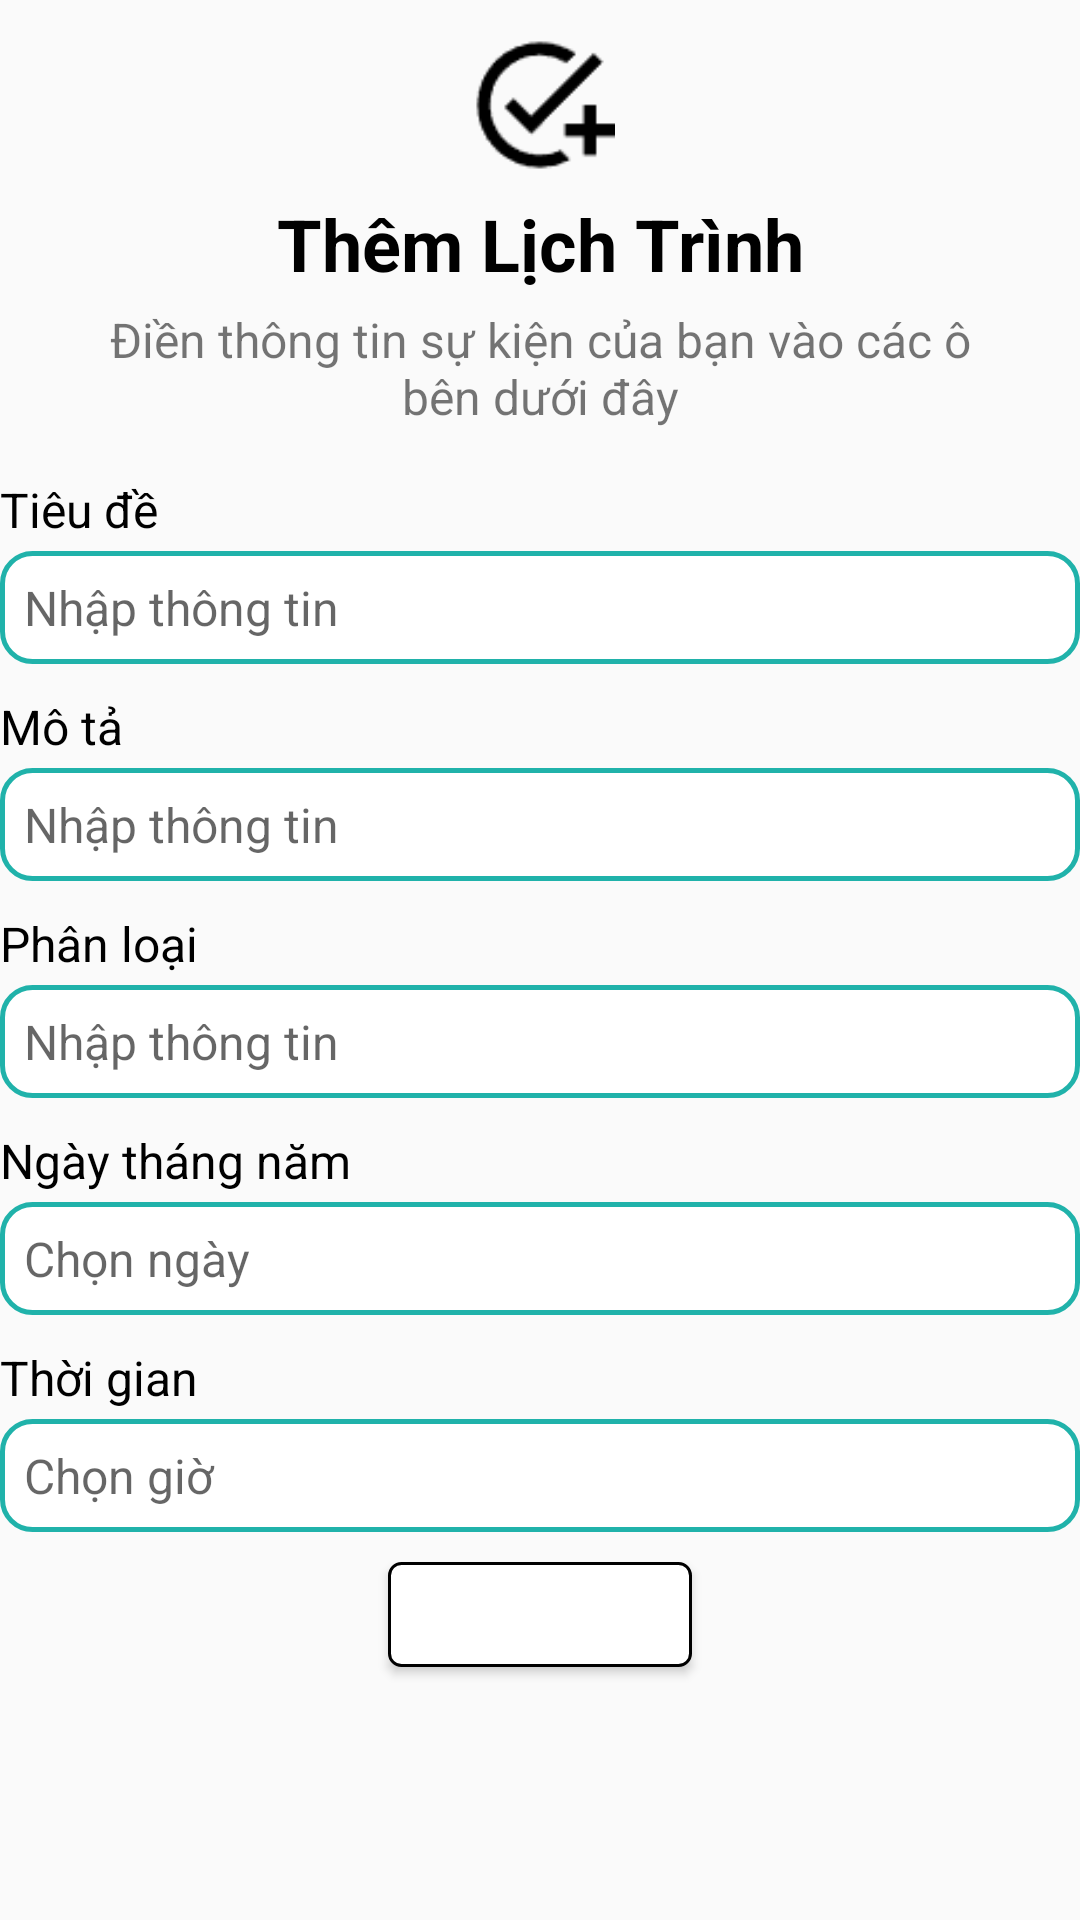

Screen size 1080 × 1920. Icon name, then its box in pixels as [x1, y1, x2, y2]:
add task: [476, 41, 615, 169]
